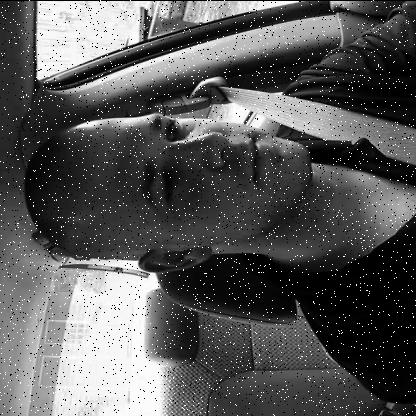seatbelt: (28, 89, 416, 274)
